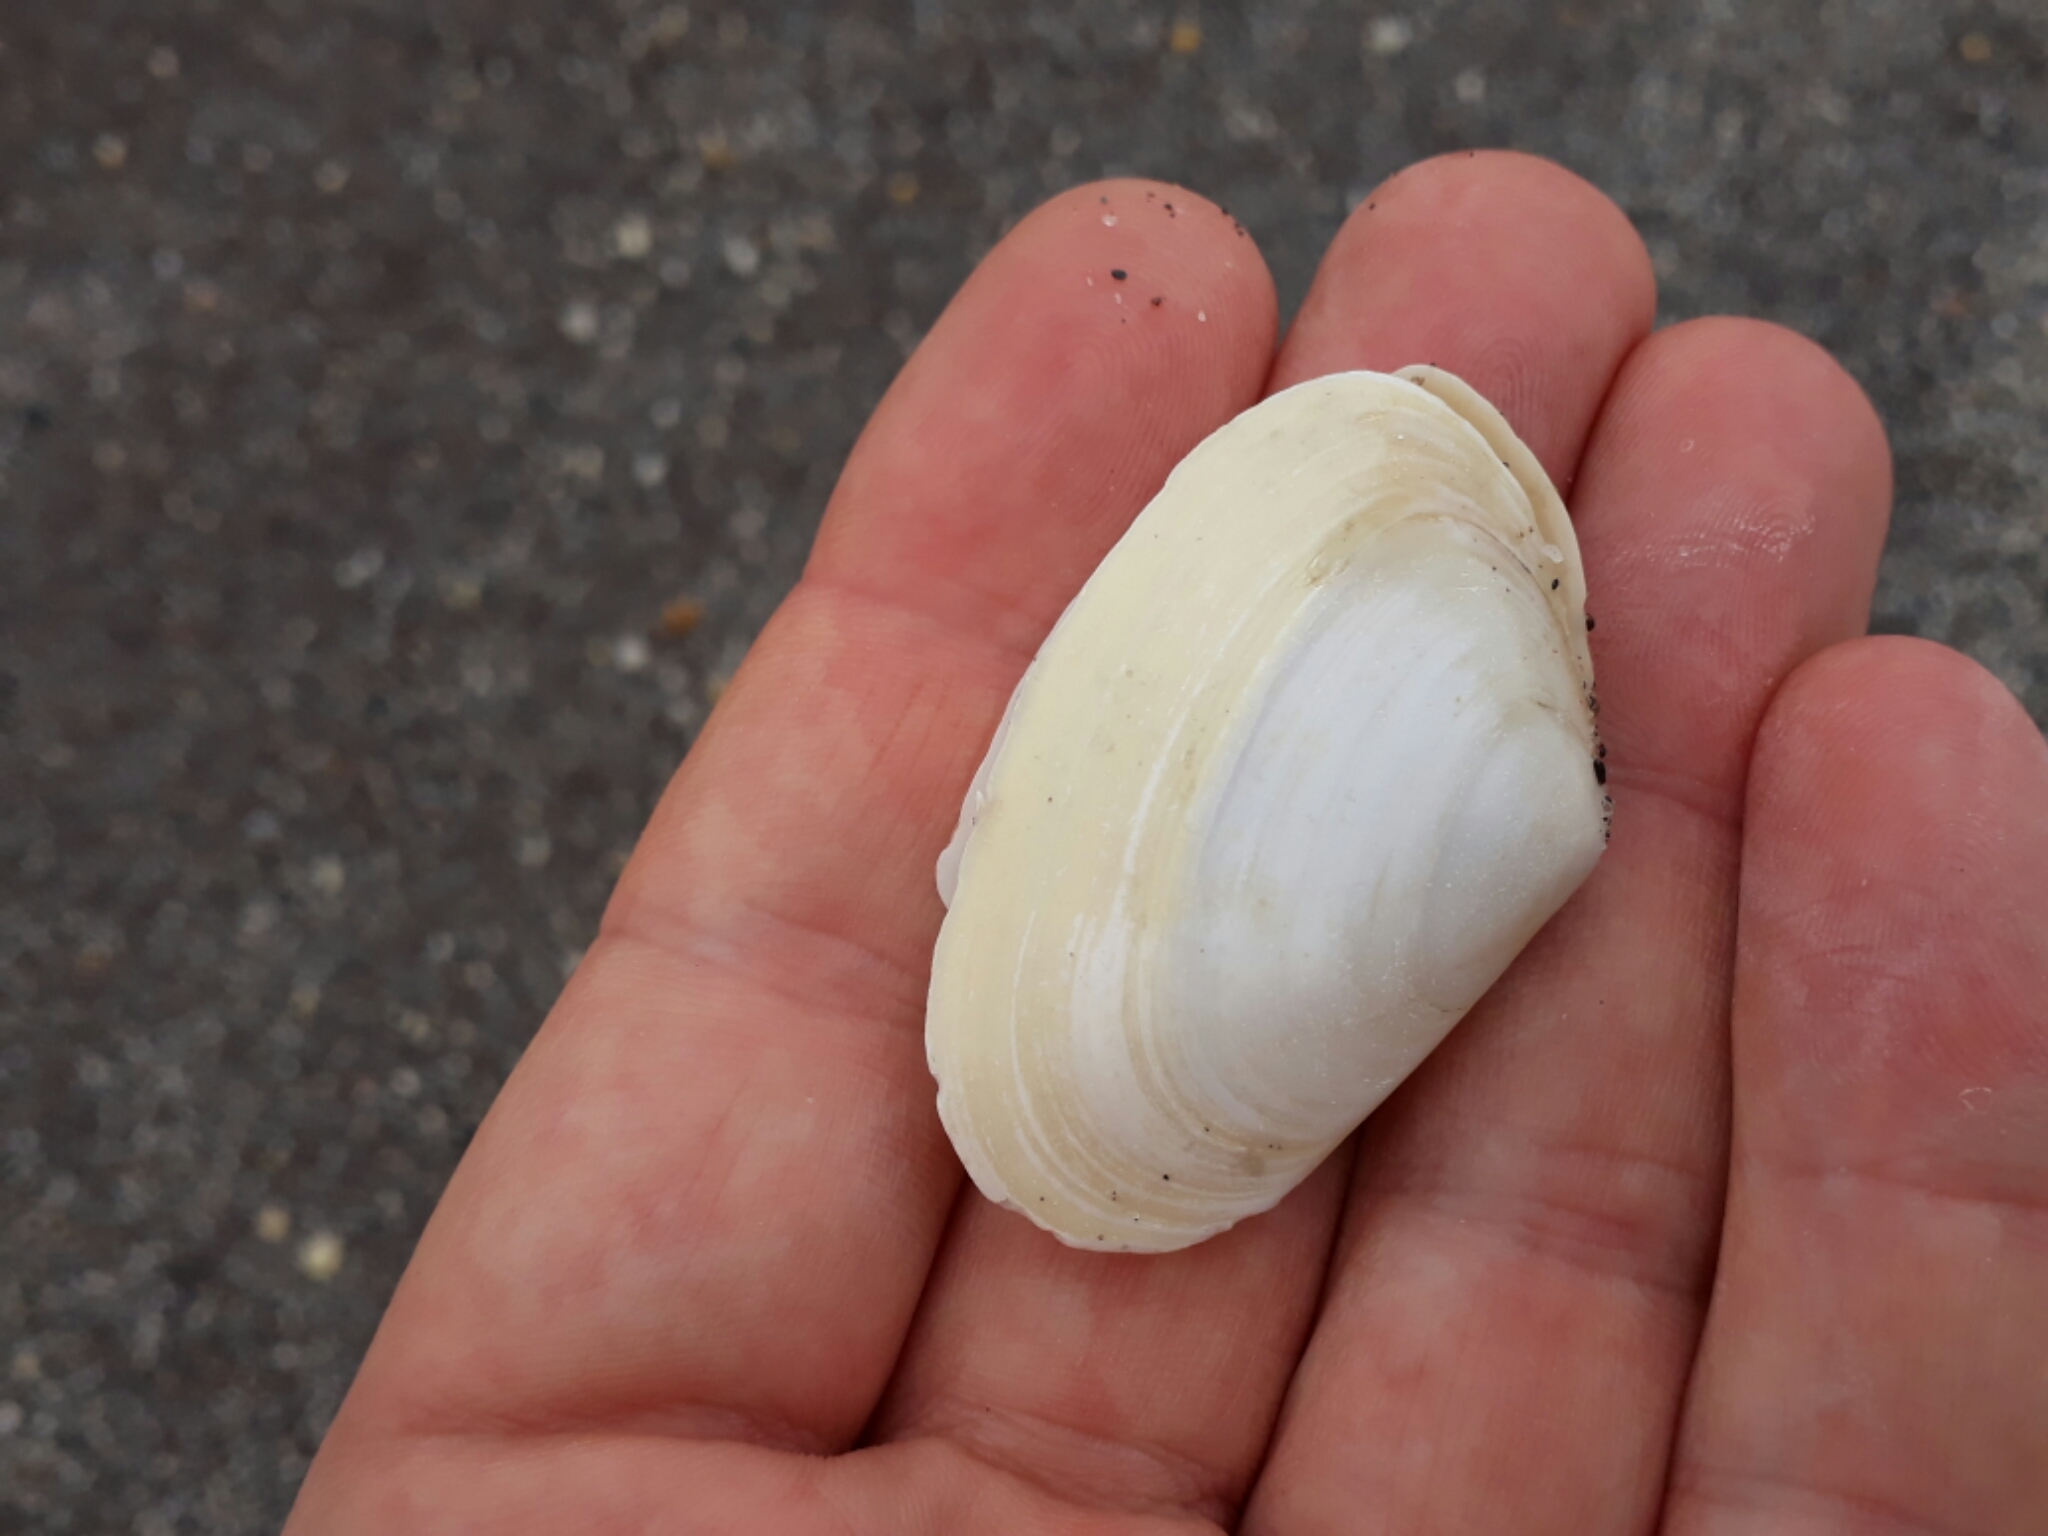tuatua: (897, 357, 1622, 1284)
